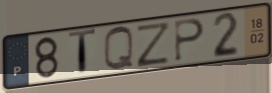2: (211, 11, 241, 62)
8: (32, 34, 62, 82)
P: (173, 17, 207, 63)
Q: (101, 25, 136, 73)
T: (67, 26, 99, 77)
Z: (135, 20, 173, 70)
